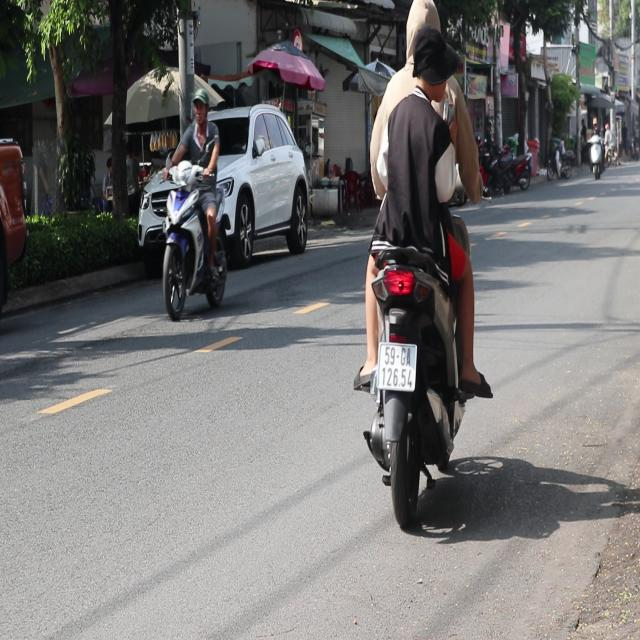helmet: (404, 0, 445, 64), (190, 86, 211, 128)
licenseplate: (350, 0, 492, 526), (156, 81, 232, 318)
motorcyclist: (410, 25, 456, 98)
nohelmet: (377, 342, 416, 390)
